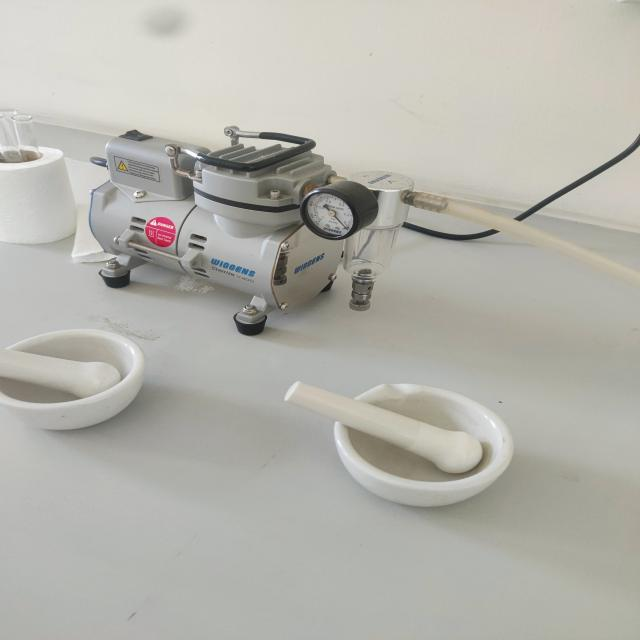Porcelain_Mortar Pestle: (269, 359, 546, 533), (0, 293, 169, 455)
